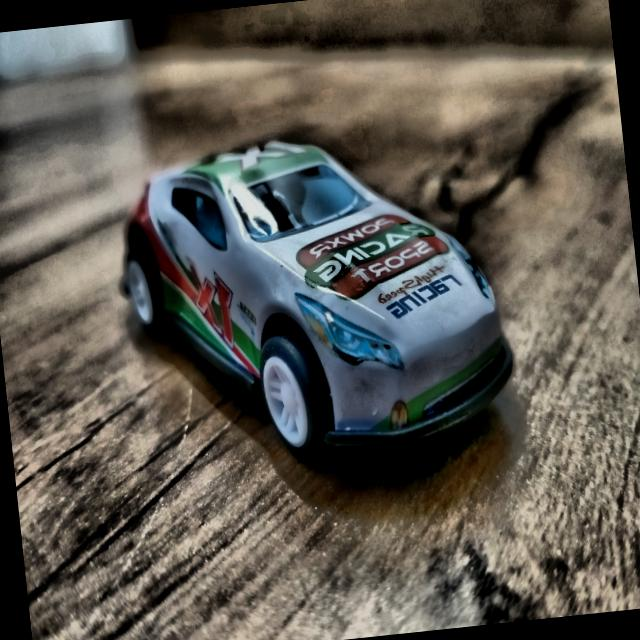Car: (106, 104, 540, 496)
